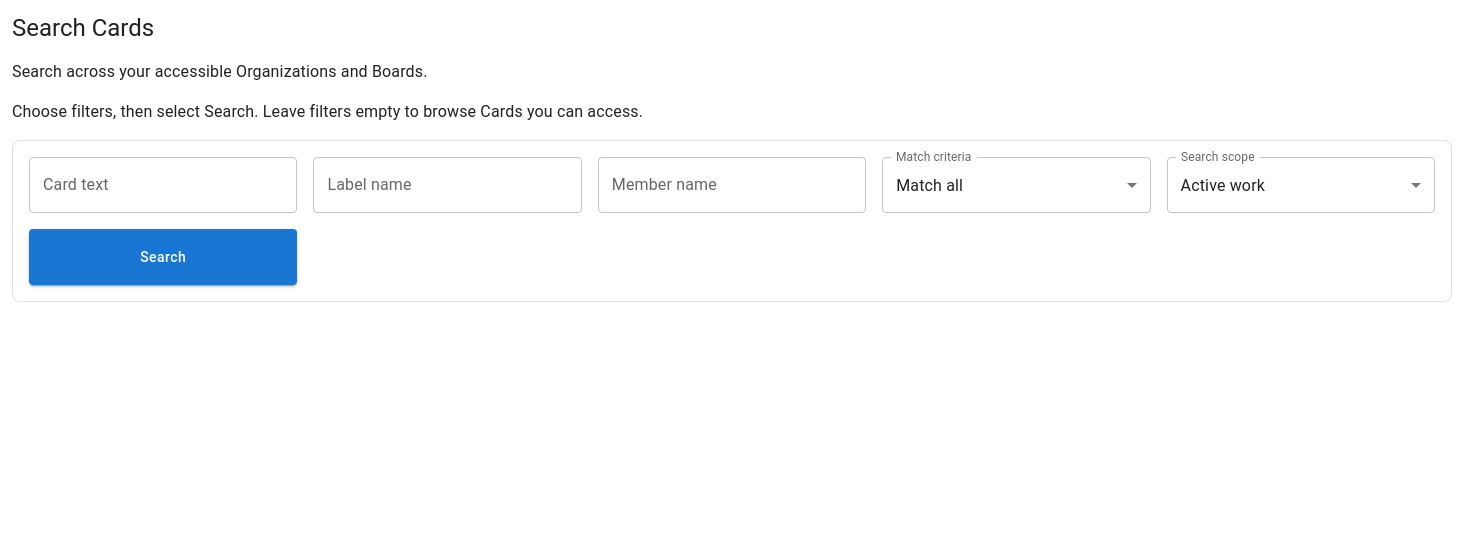
it: identifies an unapplied Search scope selection
Type "landscaping" into the field labelled "Card text" at {"x": 163, "y": 185}, box [29,157,297,213]
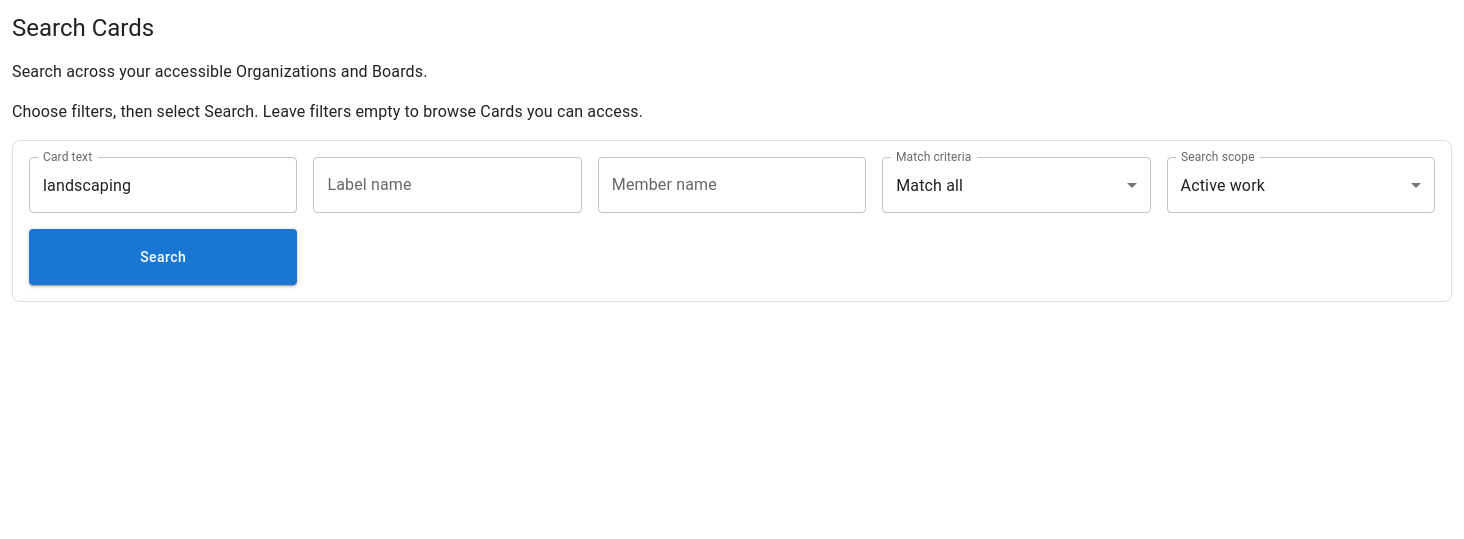
Submit the form "Card text", box [12,140,1452,302]
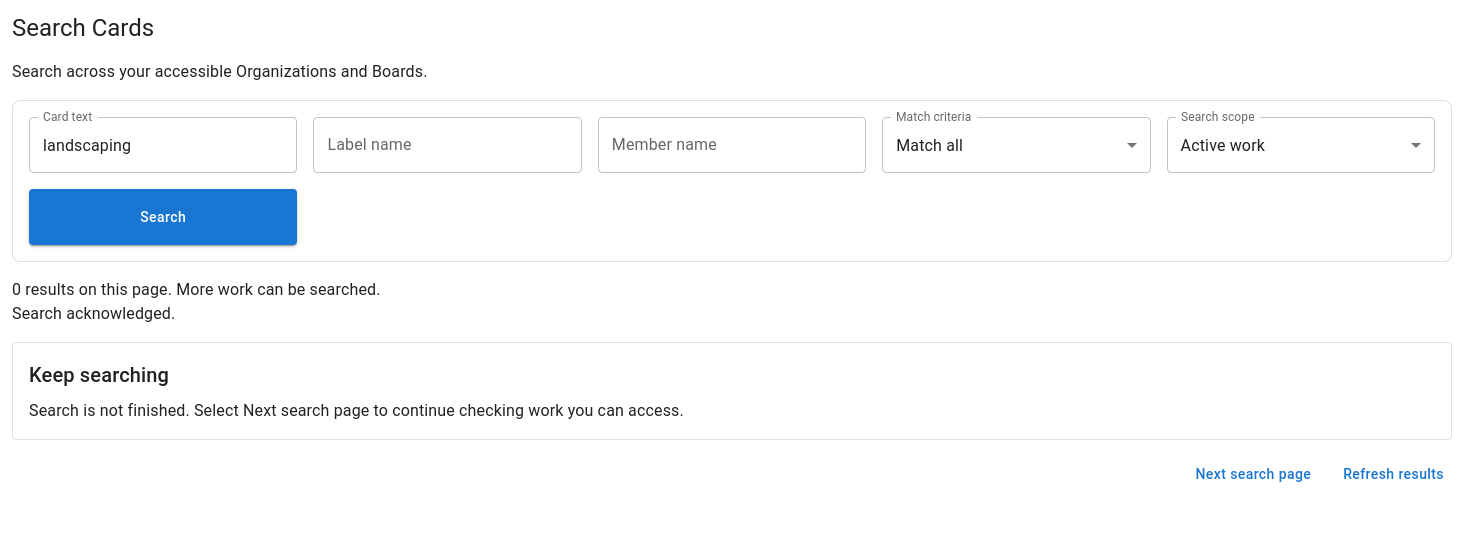
Now the button "Next search page" is shown, box [1188,456,1319,492]
Press the mouse on the dropdown named "Search scope" at {"x": 1223, "y": 145}, box [1181,136,1265,154]
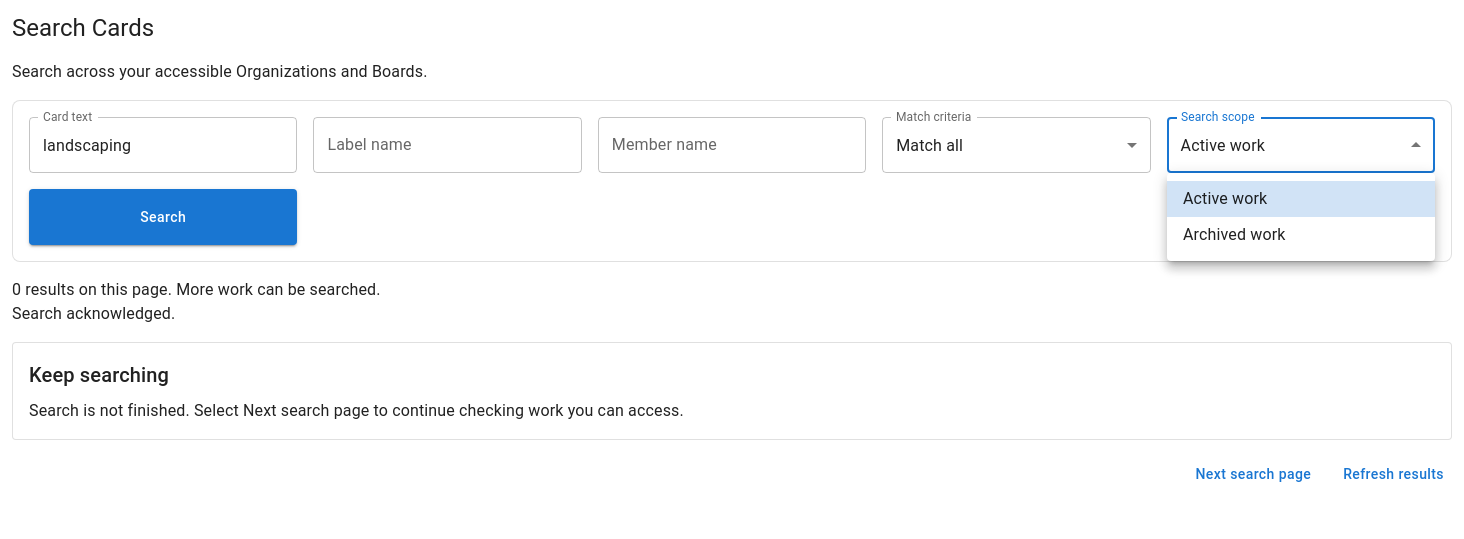
Click the option "Archived work" at {"x": 1234, "y": 234}, box [1183,225,1286,244]
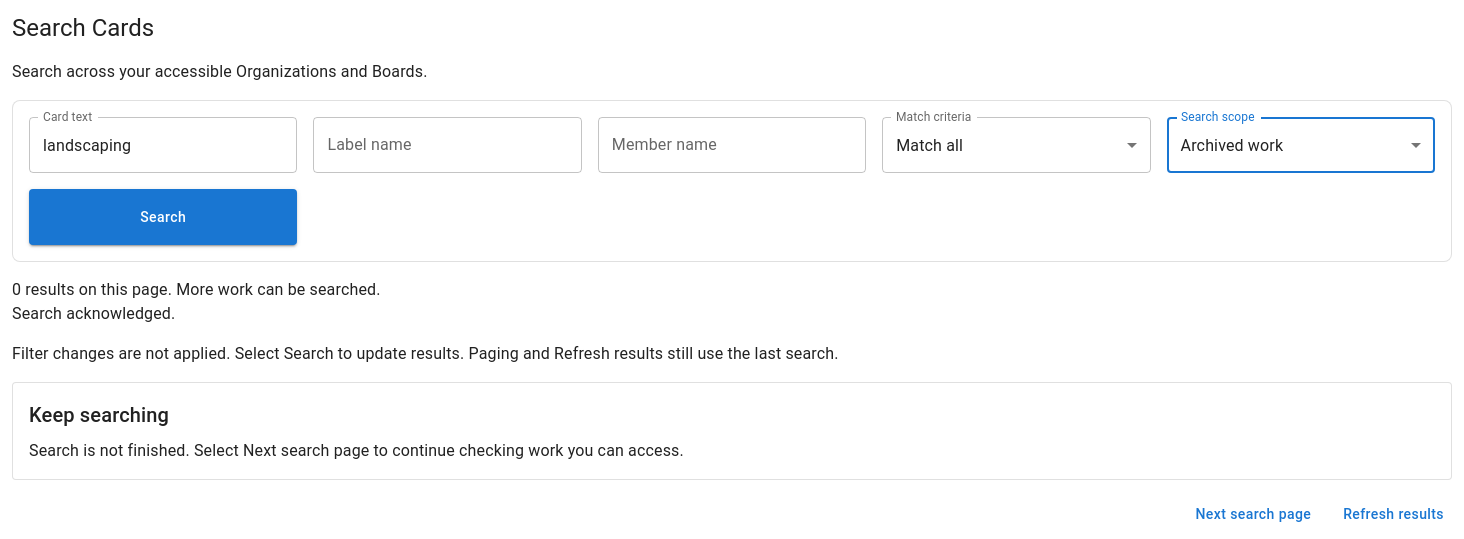
Now the text "Filter changes are not applied. Select Search to update results. Paging and Refresh results still use the last search." is shown, box [12,344,839,363]
